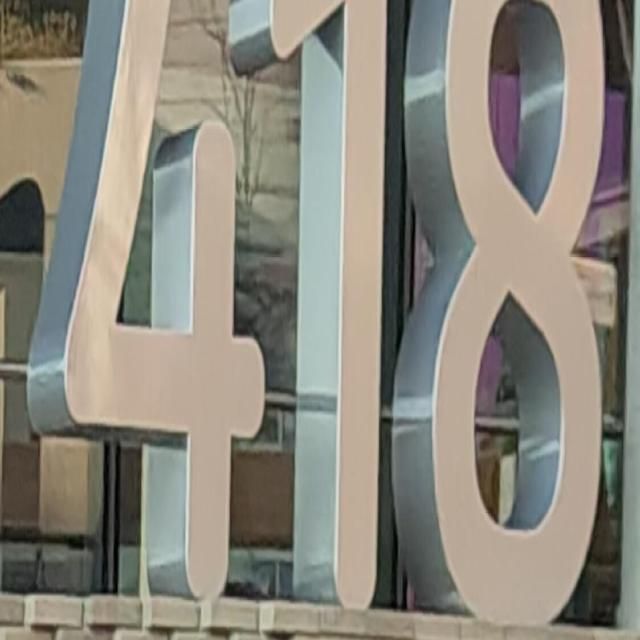character: (59, 0, 270, 605), (430, 0, 607, 631), (266, 0, 391, 615)
